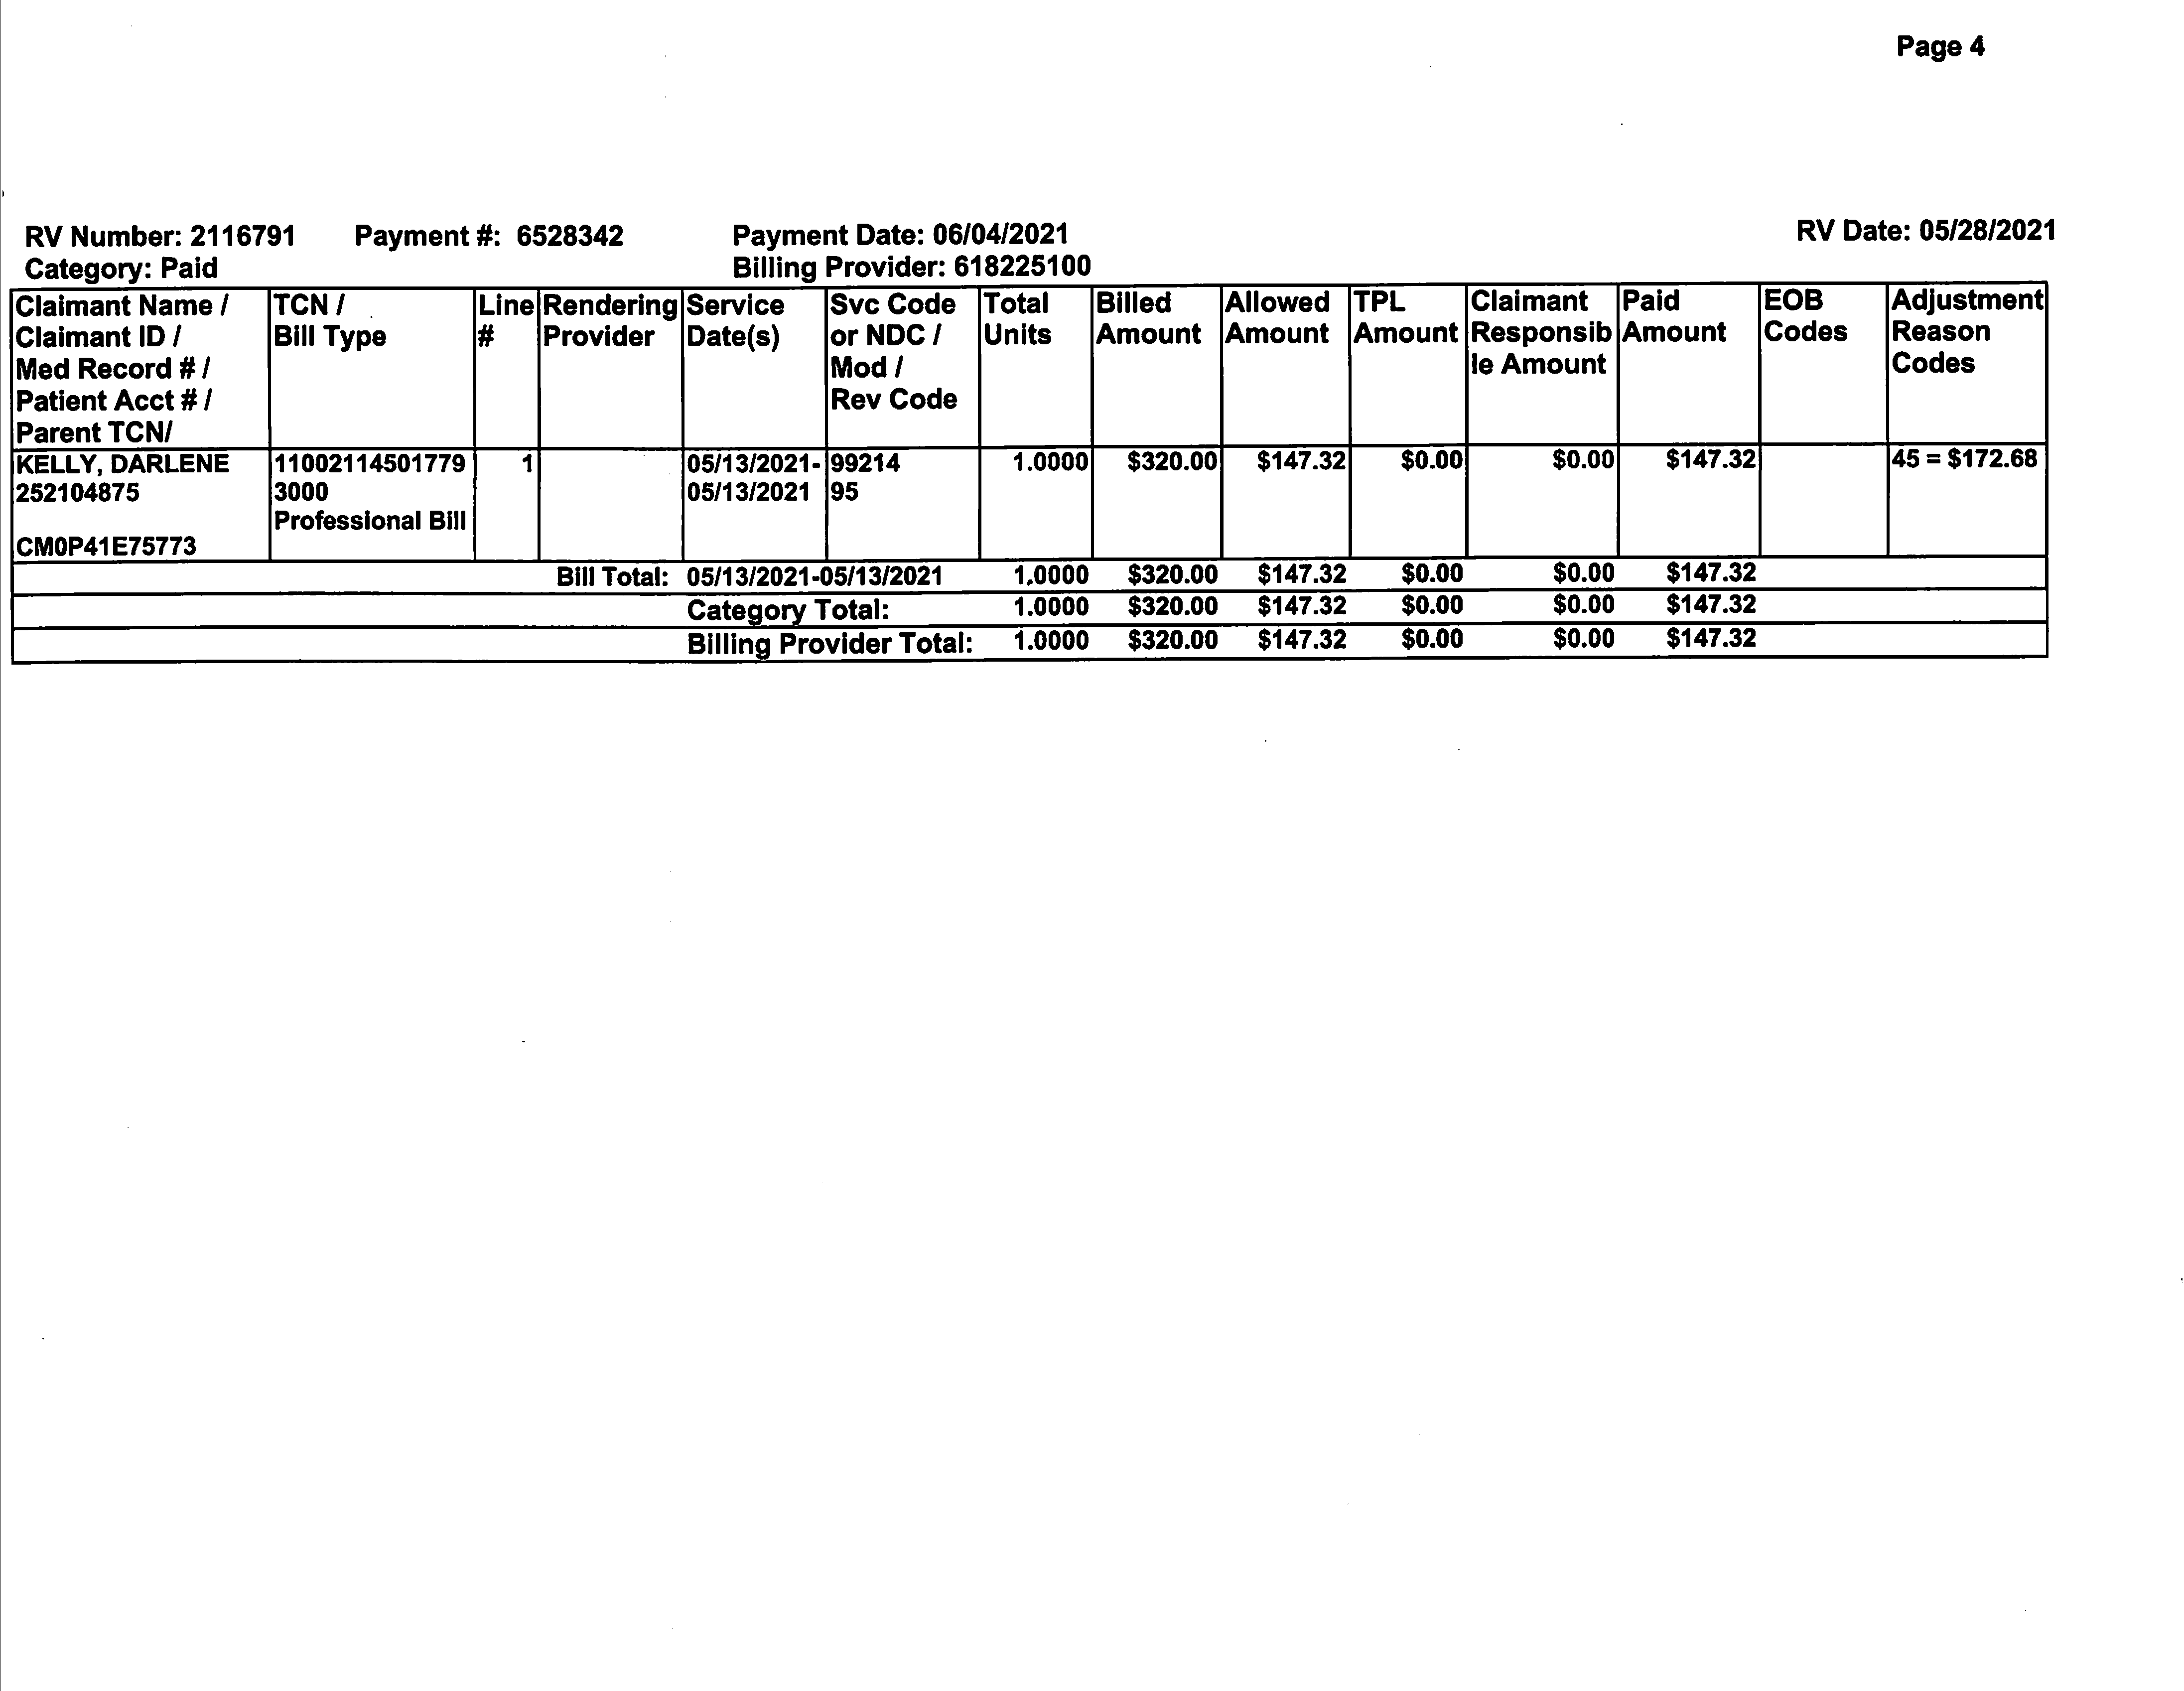data: (718, 209, 1106, 280)
table: (4, 282, 2055, 672)
